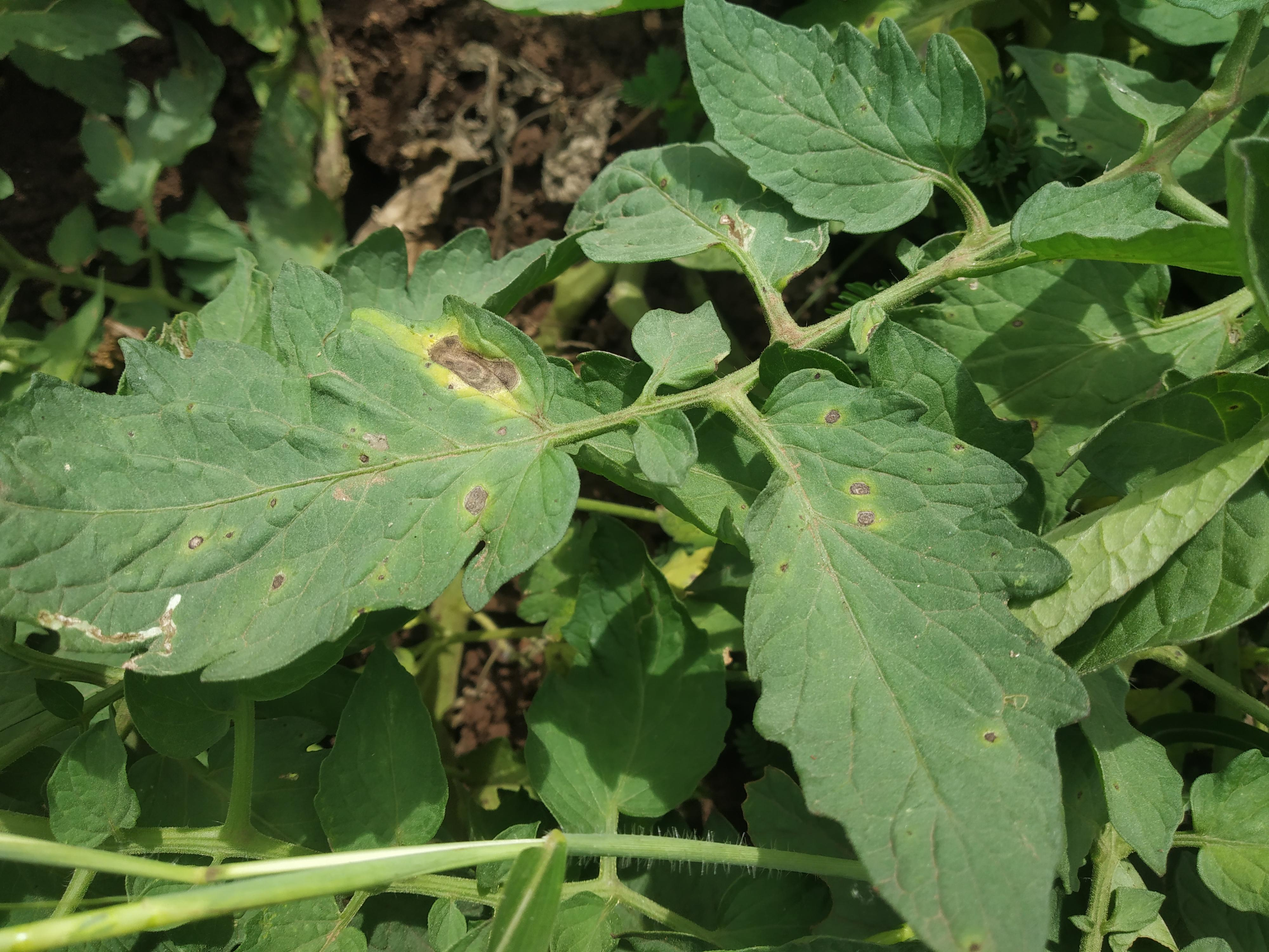Early Blight: (694, 270, 1269, 717), (185, 0, 528, 585)
